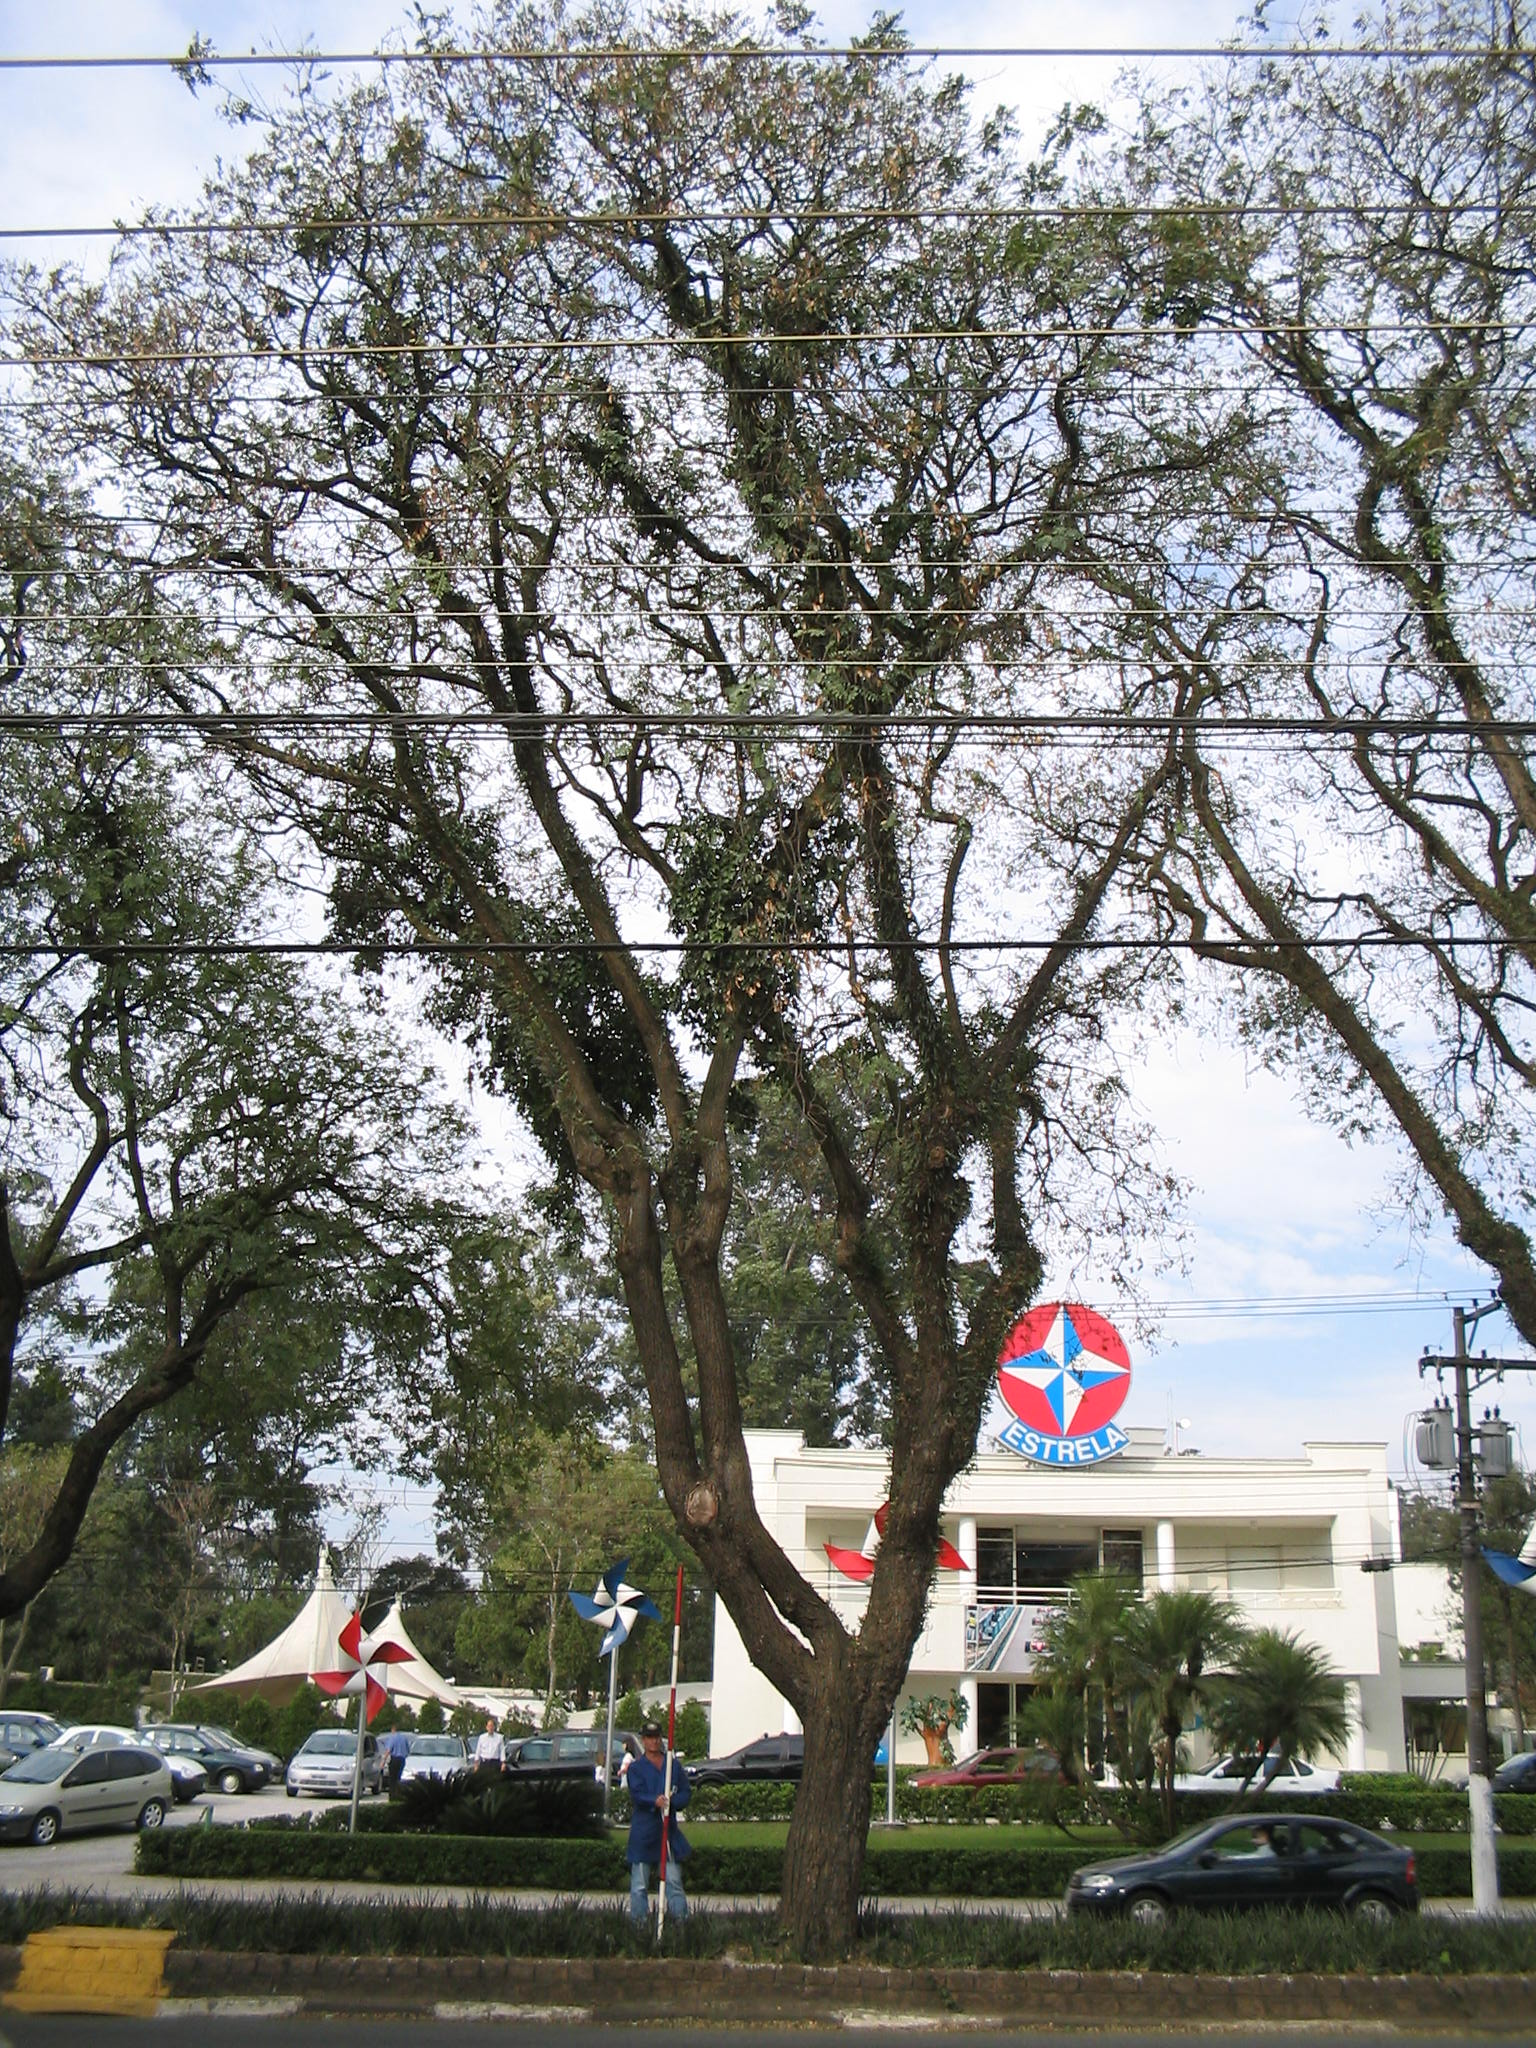stem: (720, 1671, 954, 1963)
stick: (624, 1571, 703, 1951)
tree: (11, 5, 1273, 1966)
